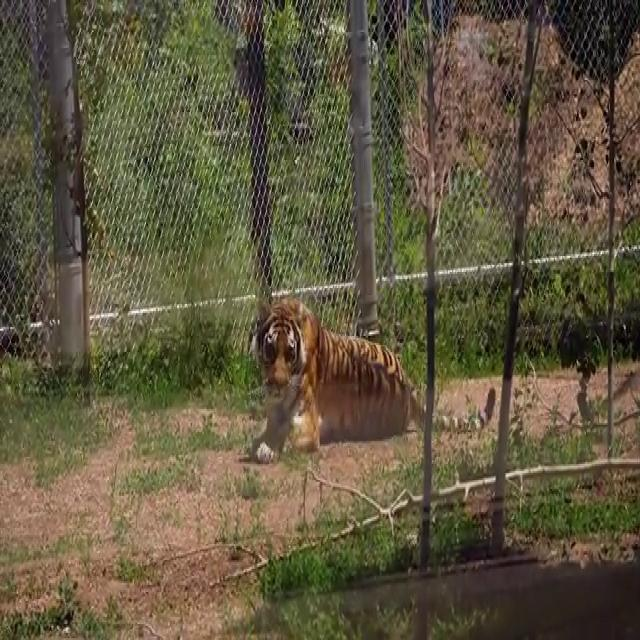tiger: (250, 295, 496, 465)
